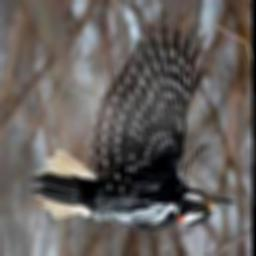Woodpecker: (30, 13, 234, 233)
